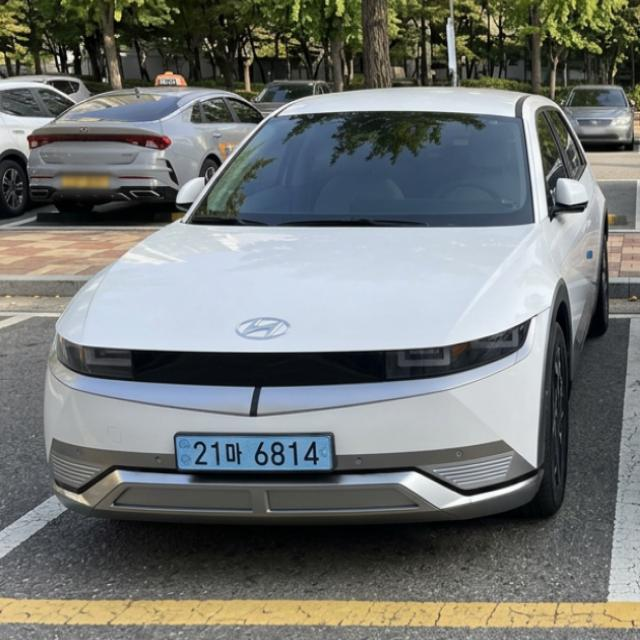car: (166, 429, 352, 487)
carev: (170, 430, 194, 479), (314, 431, 336, 475)
